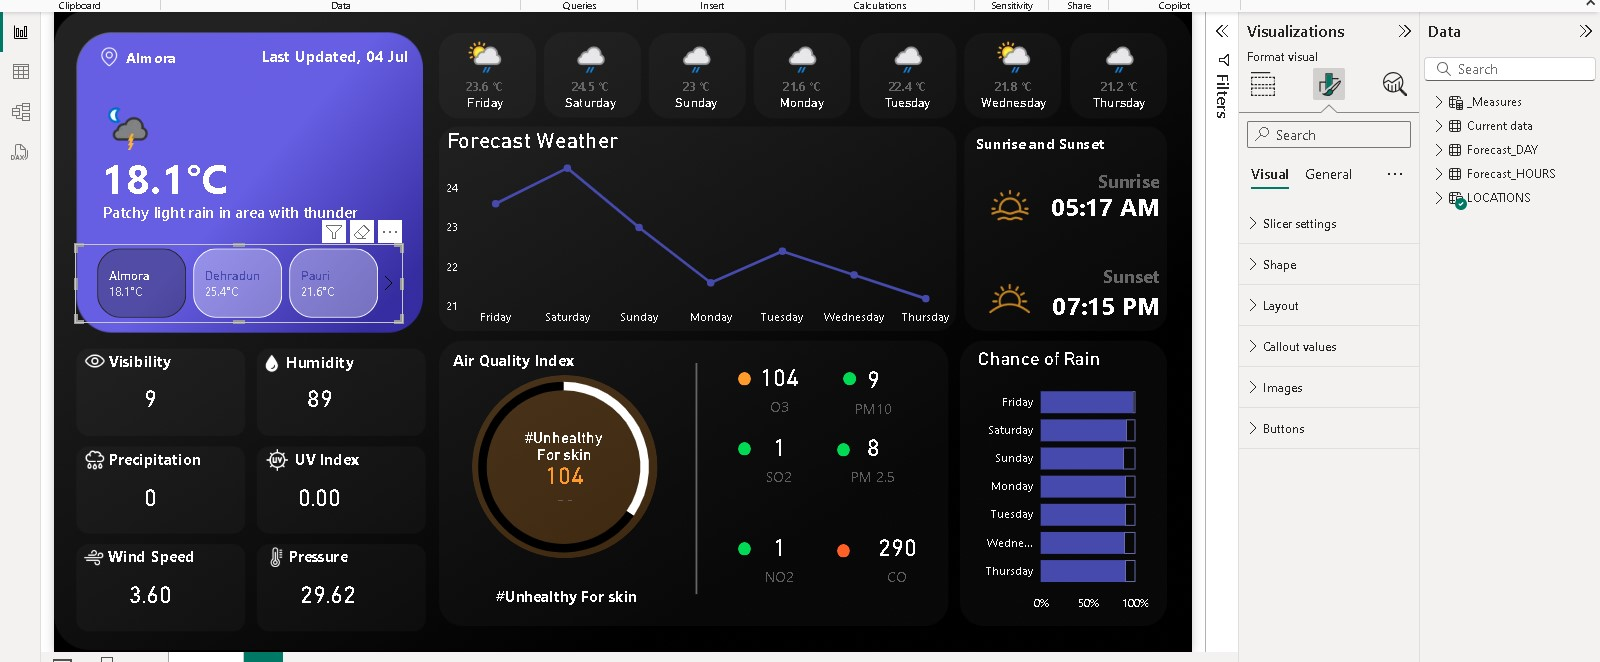

What the dashboard file says about the page in this screenshot:
{"tool":"powerbi","page":{"name":"Page 1","canvas":[1280,720],"ordinal":0},"visuals":[{"type":"shape","box":[470,408.8,208.8,206.2],"z":0},{"type":"advancedSlicerVisual","fields":{"Values":["LOCATIONS.location.name"]},"box":[23.8,261.2,368.8,88.8],"z":1000},{"type":"image","box":[23.1,34.7,77.1,30.8],"z":3000},{"type":"shape","box":[35.9,27.3,146.5,47.4],"z":4000},{"type":"shape","box":[54,110.5,307.1,150.4],"z":5000},{"type":"shape","box":[54.6,189.6,372.1,71.8],"z":6000},{"type":"shape","box":[234.2,14.4,372.1,71.8],"z":7000},{"type":"cardVisual","fields":{"Data":["Min(Current data.current.condition.icon)"]},"box":[23,86.2,113.5,84.8],"z":8000},{"type":"image","box":[0,374.9,91.9,35.9],"z":9000},{"type":"shape","box":[61.8,357.7,179.6,71.8],"z":10000},{"type":"image","box":[206.9,380.7,76.1,30.2],"z":11000},{"type":"image","box":[11.5,597.6,67.5,33],"z":12000},{"type":"image","box":[8.6,485.6,73.3,35.9],"z":13000},{"type":"image","box":[218.4,597.6,64.6,31.6],"z":14000},{"type":"image","box":[191.1,485.6,120.7,35.9],"z":15000},{"type":"shape","box":[261.5,359.1,179.6,71.8],"z":16000},{"type":"shape","box":[61.8,468.3,179.6,71.8],"z":17000},{"type":"shape","box":[271.5,468.3,179.6,71.8],"z":18000},{"type":"shape","box":[60.3,577.5,179.6,71.8],"z":19000},{"type":"shape","box":[264.3,577.5,179.6,71.8],"z":20000},{"type":"card","fields":{"Values":["Sum(Current data.current.humidity)"]},"box":[264.3,410.9,69,46],"z":21000},{"type":"card","fields":{"Values":["Sum(Current data.current.vis_km)"]},"box":[74.7,410.9,69,46],"z":22000},{"type":"card","fields":{"Values":["Sum(Current data.current.precip_in)"]},"box":[74.7,521.5,69,46],"z":23000},{"type":"card","fields":{"Values":["Sum(Current data.current.wind_kph)"]},"box":[74.7,630.7,69,46],"z":24000},{"type":"card","fields":{"Values":["Sum(Current data.current.pressure_in)"]},"box":[264.3,630.7,87.6,46],"z":25000},{"type":"card","fields":{"Values":["Sum(Current data.current.uv)"]},"box":[264.3,521.5,69,46],"z":26000},{"type":"advancedSlicerVisual","fields":{"Values":["Forecast_DAY.Day_name"]},"box":[423.8,21.5,841.8,103.4],"z":27000},{"type":"lineChart","title":"Forecast Weather","fields":{"Y":["Sum(Forecast_DAY.forecast.forecastday.day.avgtemp_c)"],"Category":["Forecast_DAY.Day_name"]},"box":[438.2,130.7,580.4,229.9],"z":28000},{"type":"shape","box":[1037.2,112.1,179.6,71.8],"z":29000},{"type":"shape","box":[1088.9,171,155.2,94.8],"z":30000},{"type":"shape","box":[1088.9,283,155.2,91.9],"z":31000},{"type":"shape","box":[1127.7,136.5,116.4,106.3],"z":32000},{"type":"shape","box":[1127.7,242.8,116.4,106.3],"z":33000},{"type":"image","box":[994.1,191.1,162.3,51.7],"z":34000},{"type":"image","box":[941.6,286.5,267.1,71.3],"z":35000},{"type":"hundredPercentStackedBarChart","title":"Chance of Rain","fields":{"Y":["Sum(Forecast_DAY.forecast.forecastday.day.daily_chance_of_rain)","Current data.Left_value_rain"],"Category":["Forecast_DAY.Day_name"]},"box":[1034.6,378.3,200.6,304.6],"z":36000},{"type":"shape","box":[448.4,355.4,178.9,72.5],"z":37000},{"type":"card","fields":{"Values":["Sum(Current data.current.air_quality.pm10)"]},"box":[869,380.2,106.2,85.2],"z":38000},{"type":"card","fields":{"Values":["Sum(Current data.current.air_quality.pm2_5)"]},"box":[869,456.7,106.2,85.2],"z":39000},{"type":"card","fields":{"Values":["Sum(Current data.current.air_quality.co)"]},"box":[895.5,569.1,106.4,85.5],"z":40000},{"type":"card","fields":{"Values":["Sum(Current data.current.air_quality.o3)"]},"box":[762.8,377.7,106.2,85.2],"z":41000},{"type":"card","fields":{"Values":["Sum(Current data.current.air_quality.so2)"]},"box":[762.8,456.7,106.2,85.2],"z":42000},{"type":"card","fields":{"Values":["Sum(Current data.current.air_quality.no2)"]},"box":[762.8,569,106.2,85.2],"z":43000},{"type":"shape","box":[627.5,395,190,260],"z":44000},{"type":"shape","box":[887.5,405,15,15],"z":45000},{"type":"shape","box":[880.9,598.2,14.5,15.5],"z":46000},{"type":"shape","box":[880.8,485.4,14.6,15.4],"z":47000},{"type":"shape","box":[769.2,405.4,14.6,15.4],"z":48000},{"type":"shape","box":[769.2,483.8,14.6,15.4],"z":49000},{"type":"shape","box":[769.2,596.2,14.6,15.4],"z":50000},{"type":"card","fields":{"Values":["Sum(Current data.current.air_quality.o3)"]},"box":[521.2,468.8,106.2,86.2],"z":51000},{"type":"donutChart","fields":{"Y":["Sum(Current data.current.air_quality.o3)","_Measures.Left value 03"]},"box":[376.2,387.5,395,250],"z":52000},{"type":"shape","box":[497.5,621.2,178.8,72.5],"z":53000}]}

Visuals, with their boxes on the page's 1280x720 design canvas (x1, y1, x2, y2). These are canvas units, not pixel positions in the 1600x662 screenshot, which may show the page scaled, cropped or inside an application window:
shape: crop(470, 409, 679, 615)
advancedSlicerVisual - LOCATIONS.location.name: crop(24, 261, 393, 350)
image: crop(23, 35, 100, 66)
shape: crop(36, 27, 182, 75)
shape: crop(54, 110, 361, 261)
shape: crop(55, 190, 427, 261)
shape: crop(234, 14, 606, 86)
cardVisual - Min(Current data.current.condition.icon): crop(23, 86, 136, 171)
image: crop(0, 375, 92, 411)
shape: crop(62, 358, 241, 430)
image: crop(207, 381, 283, 411)
image: crop(12, 598, 79, 631)
image: crop(9, 486, 82, 522)
image: crop(218, 598, 283, 629)
image: crop(191, 486, 312, 522)
shape: crop(262, 359, 441, 431)
shape: crop(62, 468, 241, 540)
shape: crop(272, 468, 451, 540)
shape: crop(60, 578, 240, 649)
shape: crop(264, 578, 444, 649)
card - Sum(Current data.current.humidity): crop(264, 411, 333, 457)
card - Sum(Current data.current.vis_km): crop(75, 411, 144, 457)
card - Sum(Current data.current.precip_in): crop(75, 522, 144, 568)
card - Sum(Current data.current.wind_kph): crop(75, 631, 144, 677)
card - Sum(Current data.current.pressure_in): crop(264, 631, 352, 677)
card - Sum(Current data.current.uv): crop(264, 522, 333, 568)
advancedSlicerVisual - Forecast_DAY.Day_name: crop(424, 22, 1266, 125)
"Forecast Weather" lineChart: crop(438, 131, 1019, 361)
shape: crop(1037, 112, 1217, 184)
shape: crop(1089, 171, 1244, 266)
shape: crop(1089, 283, 1244, 375)
shape: crop(1128, 136, 1244, 243)
shape: crop(1128, 243, 1244, 349)
image: crop(994, 191, 1156, 243)
image: crop(942, 286, 1209, 358)
"Chance of Rain" hundredPercentStackedBarChart: crop(1035, 378, 1235, 683)
shape: crop(448, 355, 627, 428)
card - Sum(Current data.current.air_quality.pm10): crop(869, 380, 975, 465)
card - Sum(Current data.current.air_quality.pm2_5): crop(869, 457, 975, 542)
card - Sum(Current data.current.air_quality.co): crop(896, 569, 1002, 655)
card - Sum(Current data.current.air_quality.o3): crop(763, 378, 869, 463)
card - Sum(Current data.current.air_quality.so2): crop(763, 457, 869, 542)
card - Sum(Current data.current.air_quality.no2): crop(763, 569, 869, 654)
shape: crop(628, 395, 818, 655)
shape: crop(888, 405, 902, 420)
shape: crop(881, 598, 895, 614)
shape: crop(881, 485, 895, 501)
shape: crop(769, 405, 784, 421)
shape: crop(769, 484, 784, 499)
shape: crop(769, 596, 784, 612)
card - Sum(Current data.current.air_quality.o3): crop(521, 469, 627, 555)
donutChart - Sum(Current data.current.air_quality.o3) x _Measures.Left value 03: crop(376, 388, 771, 638)
shape: crop(498, 621, 676, 694)
